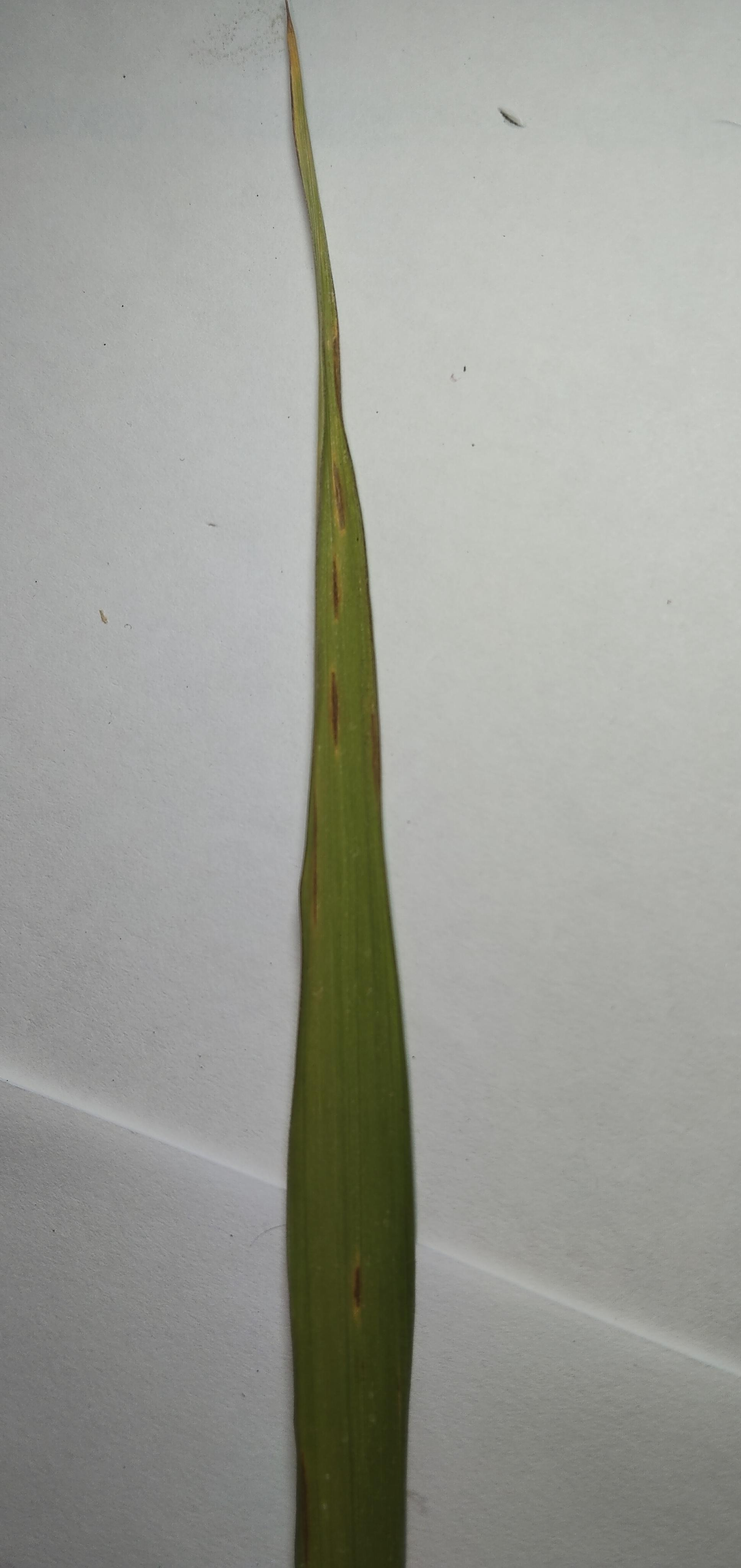NBS: (333, 461, 345, 530), (302, 1453, 308, 1562), (371, 713, 379, 791), (331, 671, 338, 746), (313, 809, 317, 925), (333, 559, 338, 619), (353, 1267, 360, 1307)
